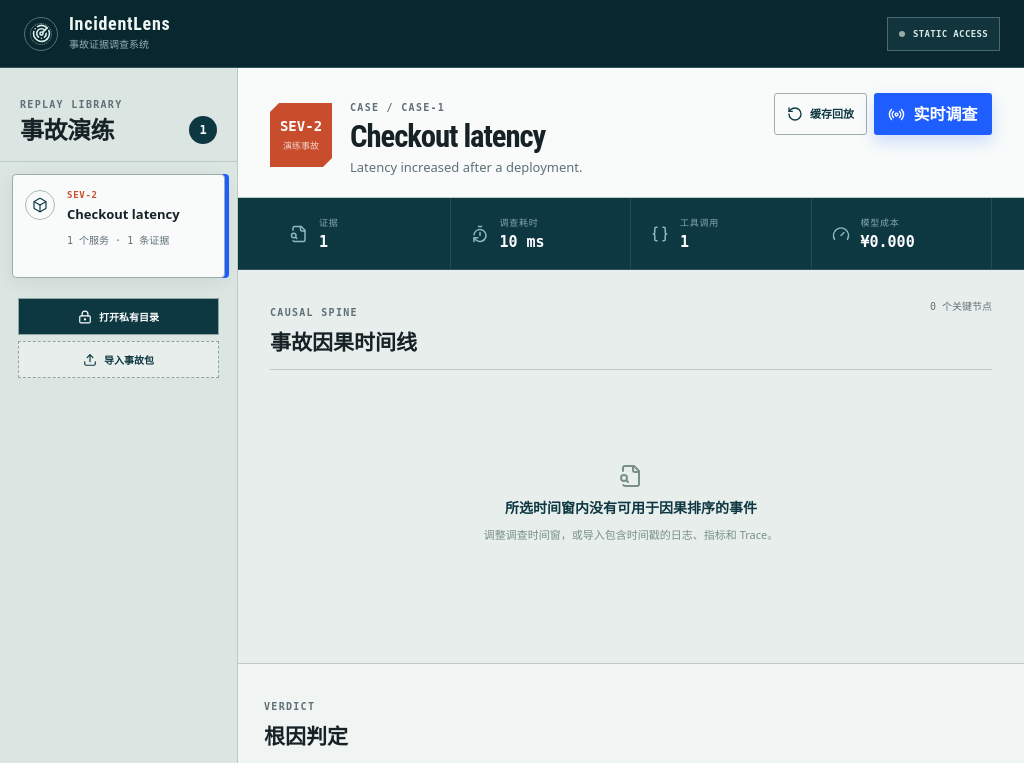
AppShell › polls the terminal report when the event stream disconnects
Click the button "实时调查". click: x=933, y=114
box: top-left (874, 93), bottom-right (992, 135)
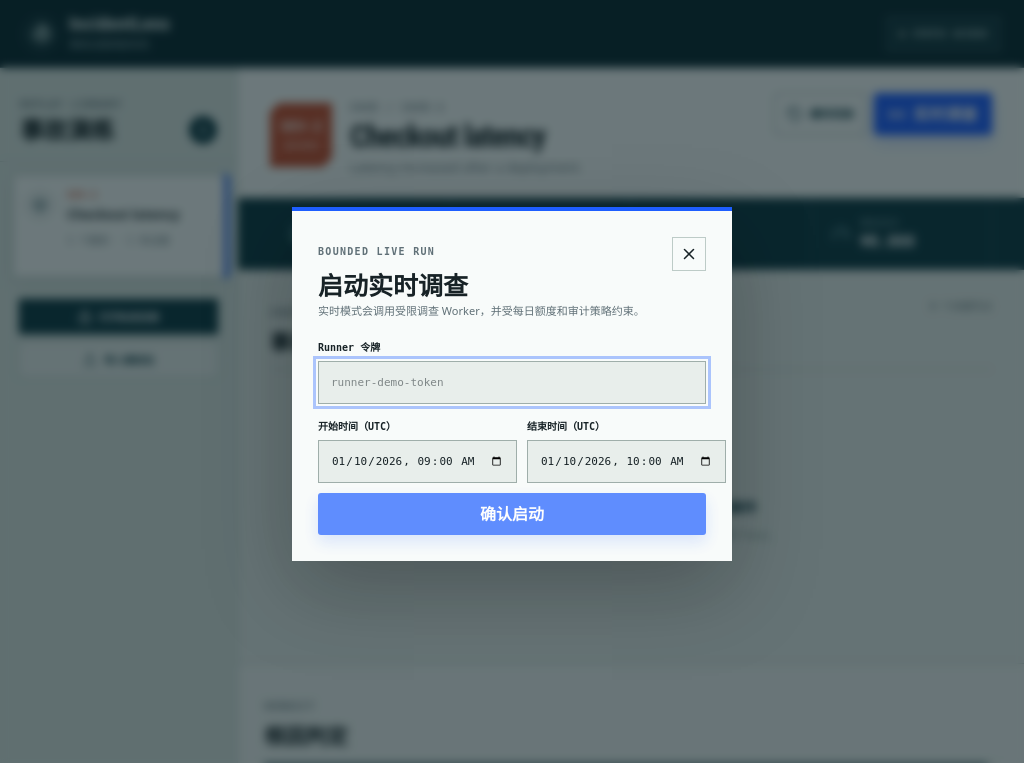
Type "runner-token" into the password field labelled "Runner 令牌". click: x=512, y=383
box: top-left (318, 361), bottom-right (706, 404)
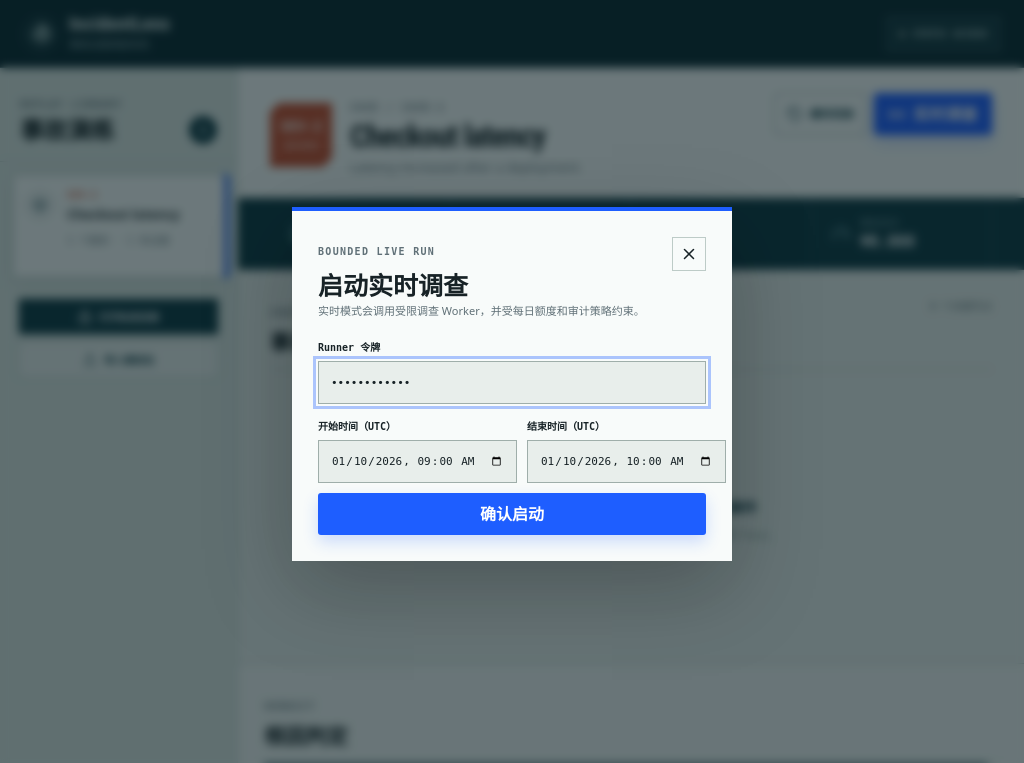
Click the button "确认启动". click: x=512, y=514
box: top-left (318, 493), bottom-right (706, 535)
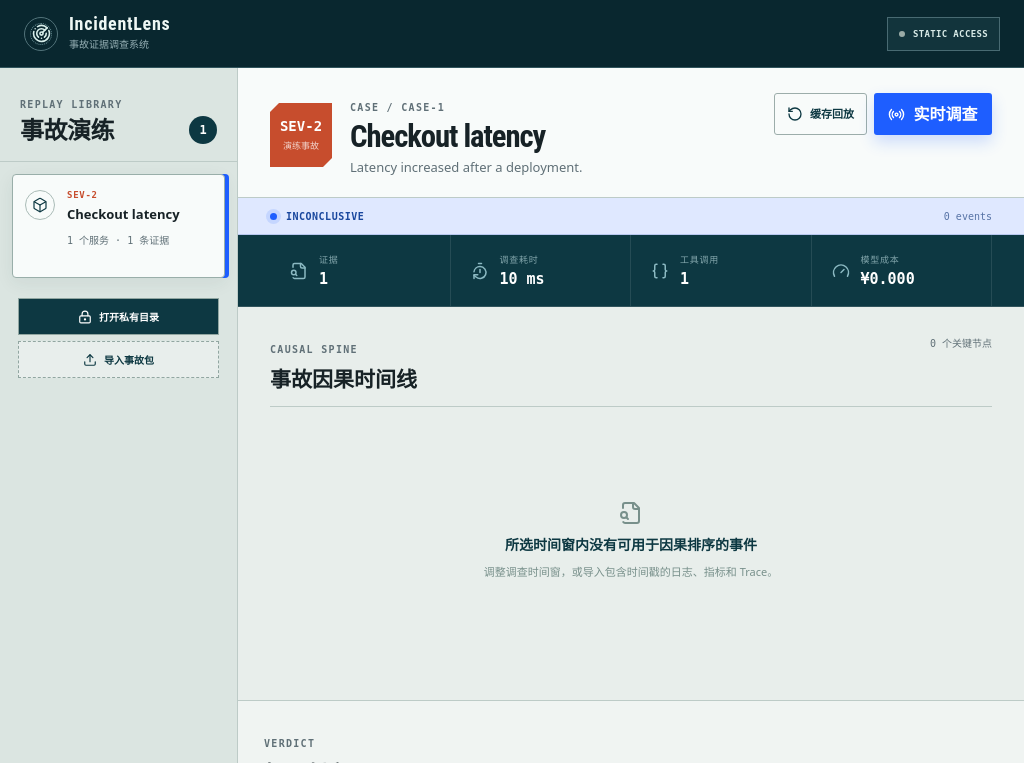
Result: the text "inconclusive" is shown at top-left (286, 211), bottom-right (364, 222)
